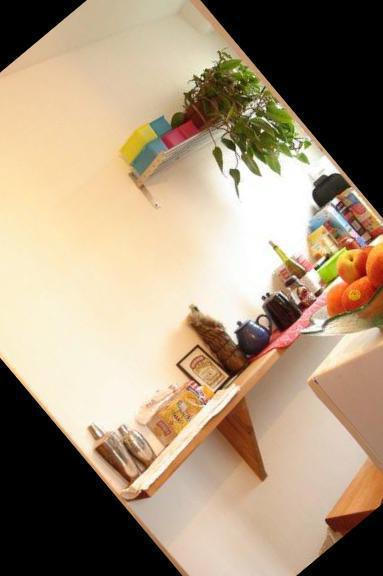Matera: (160, 42, 312, 202)
